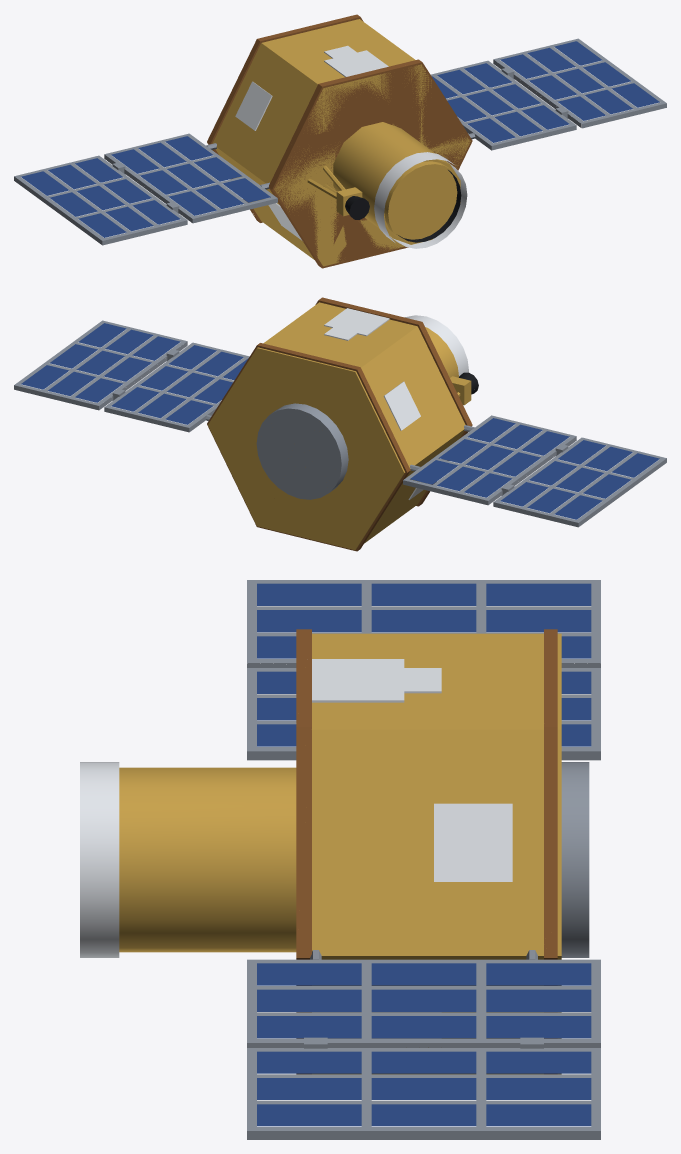
File: cartosat-2.glb
The picture shows the model from 3 angles, top to bottom: view 1: azimuth 30°, elevation 25°; view 2: azimuth 150°, elevation 25°; view 3: azimuth 270°, elevation 25°; orthographic projection. The views are drawn at different scales.
Parts seen in each view (by area): view 1: foil, solar-panel, body; view 2: foil, solar-panel, body; view 3: foil, solar-panel, body.
Boxes of the visible parts, left/top/right/bottom form: foil: left=207, top=14, right=472, bottom=268; solar-panel: left=21, top=41, right=659, bottom=237; body: left=14, top=38, right=666, bottom=248; foil: left=207, top=297, right=472, bottom=551; solar-panel: left=21, top=323, right=659, bottom=519; body: left=14, top=308, right=666, bottom=527; foil: left=119, top=629, right=561, bottom=1074; solar-panel: left=247, top=583, right=600, bottom=1126; body: left=80, top=580, right=600, bottom=1139.
Size of the model in its own units: 6.63 by 2.04 by 2.65.
